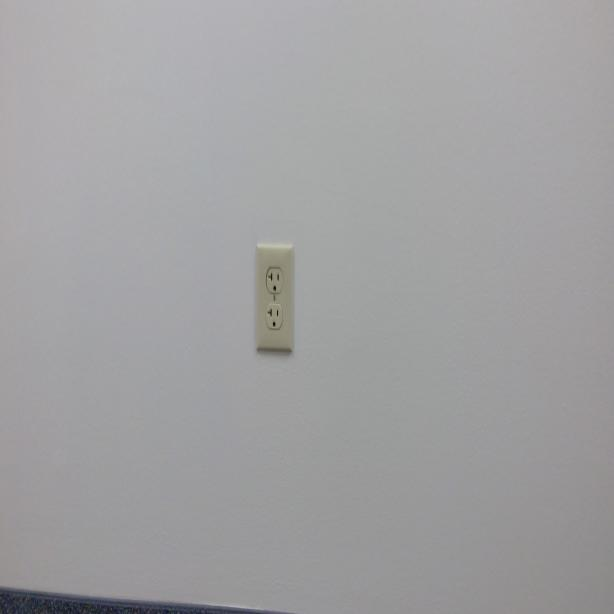typeb: (267, 304, 284, 332), (266, 270, 282, 294)
